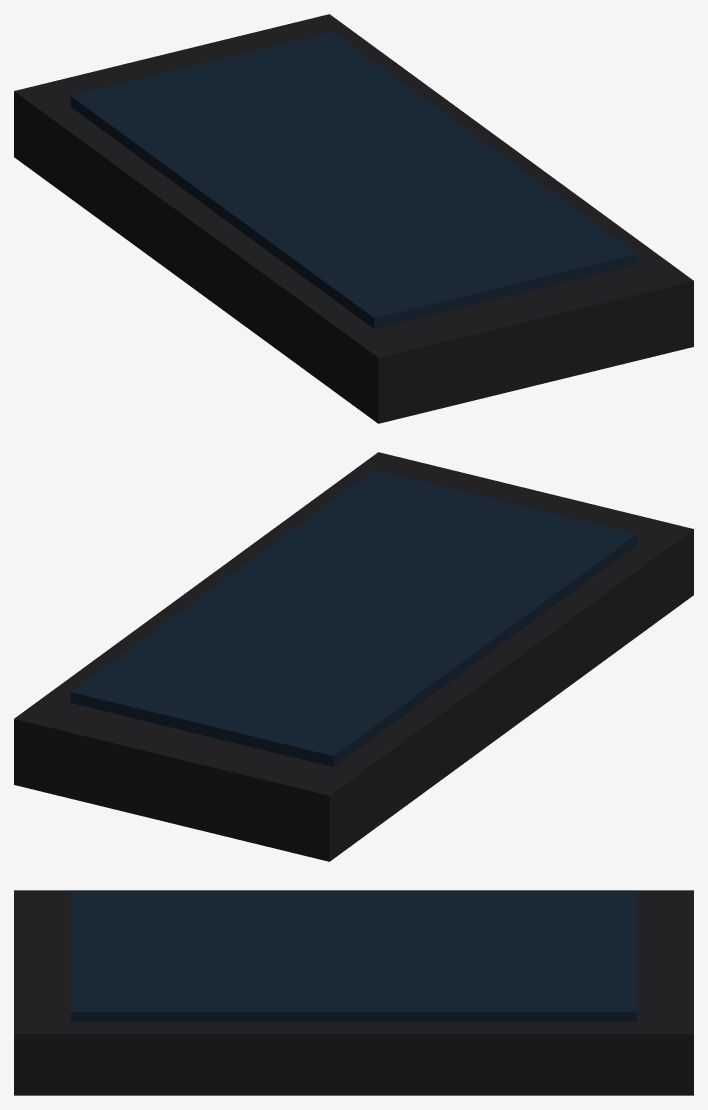
The model's file is PRP_Phone_A.glb.
The picture shows the model from 3 angles, top to bottom: view 1: azimuth 30°, elevation 25°; view 2: azimuth 150°, elevation 25°; view 3: azimuth 270°, elevation 25°; orthographic projection. The views are drawn at different scales.
Visible parts, largest first — view 1: screen, PRP_Phone_A_Body; view 2: screen, PRP_Phone_A_Body; view 3: screen, PRP_Phone_A_Body.
Boxes of the visible parts, left/top/right/bottom form: screen: left=70, top=32, right=637, bottom=328; PRP_Phone_A_Body: left=14, top=14, right=693, bottom=423; screen: left=70, top=470, right=637, bottom=766; PRP_Phone_A_Body: left=14, top=452, right=693, bottom=861; screen: left=70, top=892, right=637, bottom=1021; PRP_Phone_A_Body: left=14, top=890, right=693, bottom=1095.
Size of the model in its own units: 0.06 by 0.014 by 0.12.
